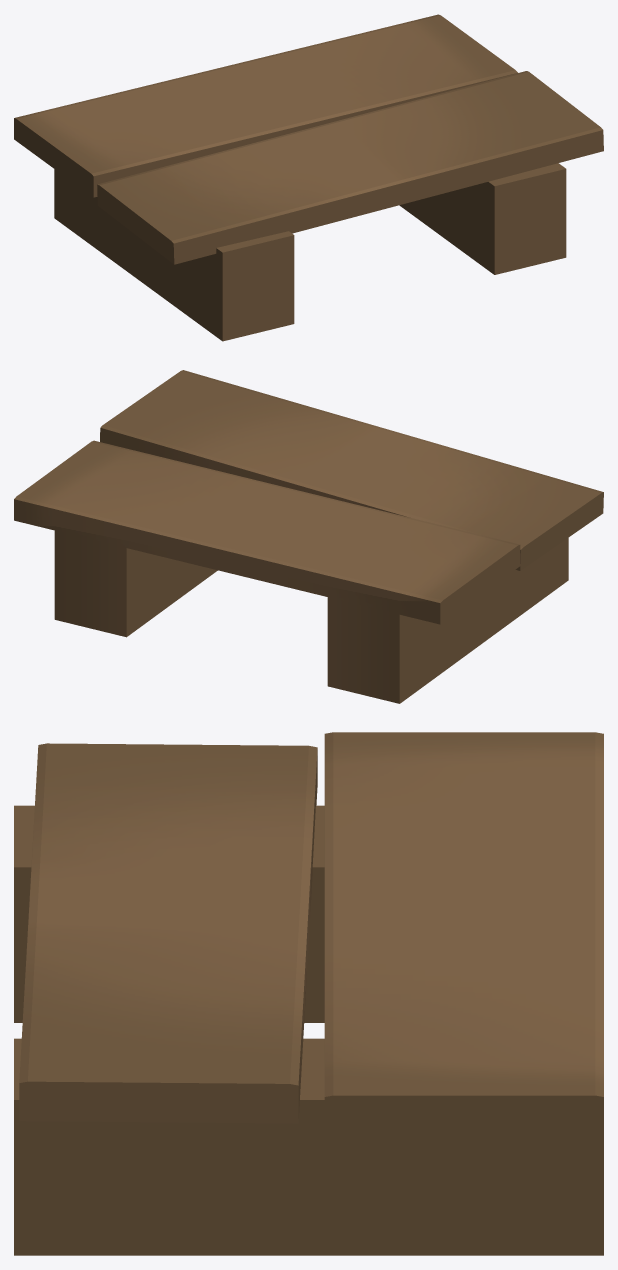
Rendered from bridge_side.fbx.
3 renders of one model, top to bottom at view 1: azimuth 30°, elevation 25°; view 2: azimuth 150°, elevation 25°; view 3: azimuth 270°, elevation 25°, orthographic. The views are drawn at different scales.
Parts seen in each view (by area): view 1: edge_bridge_walk; view 2: edge_bridge_walk; view 3: edge_bridge_walk.
Part boxes in pixels (x1,y1,x2,y2): edge_bridge_walk: [14, 14, 603, 341]; edge_bridge_walk: [14, 370, 603, 703]; edge_bridge_walk: [14, 732, 603, 1255].
Bounding box in the file's own units: 202 × 53.2 × 137.
Materials: 1 (1 with a texture image).
